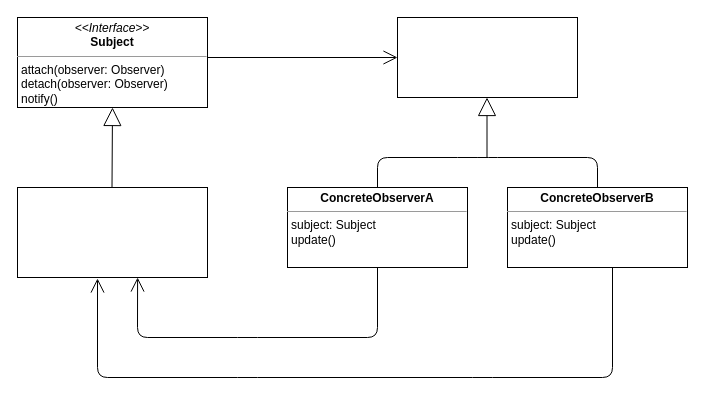
This 705x409 diagram has some shape labels left out. The box of each missing label's shape, as (x1, y1, x2, y2) in pixels:
<<Interface>> Observer subject: Subject update(): (396, 16, 578, 98)
ConcreteSubject attach(observer: Observer) detach(observer: Observer) notify(): (16, 186, 208, 278)
